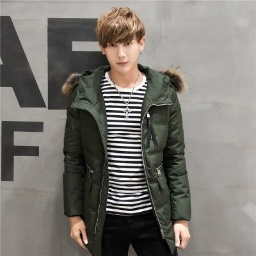face: (97, 7, 148, 74)
